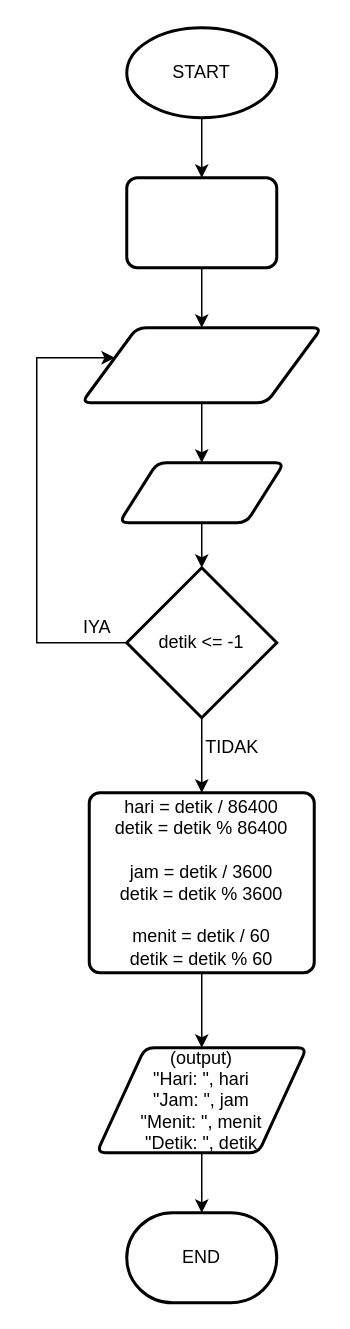
The diagram is 350 pixels wide and 1329 high, and some of its shapes have lost their labels. The centre of each missing label's shape, as x and y in pixels:
(input) detik: the point at 201,492
(output) "Masukkan detik: ": the point at 201,365
int detik int menit int jam int hari: the point at 201,222
